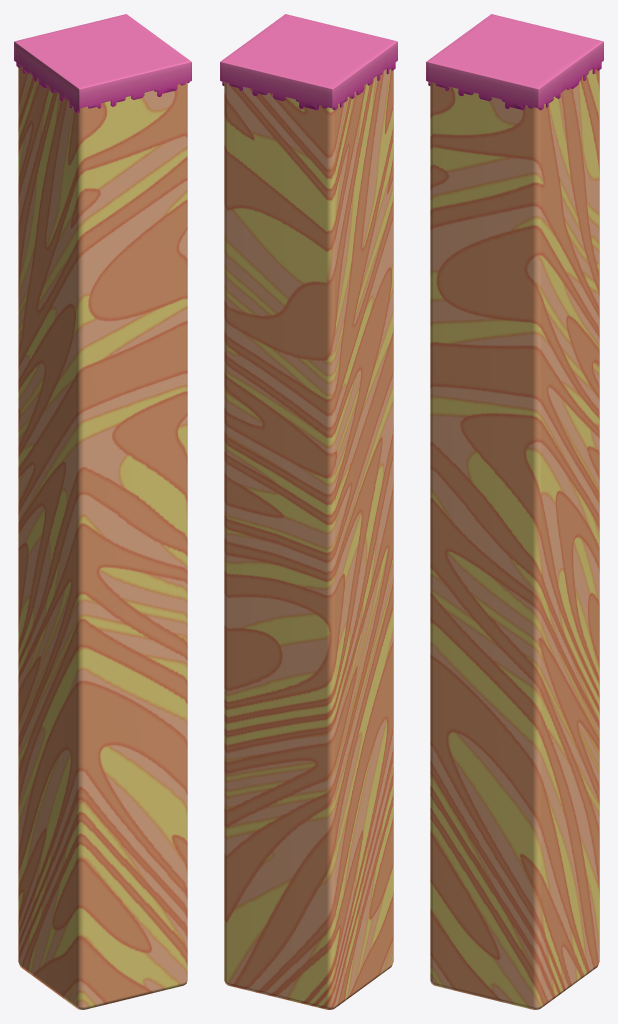
The model's file is ScaffoldLL_001.fbx.
The picture shows the model from 3 angles, left to right: view 1: azimuth 30°, elevation 25°; view 2: azimuth 150°, elevation 25°; view 3: azimuth 330°, elevation 25°; orthographic projection.
Parts seen in each view (by area): view 1: asibaLL1; view 2: asibaLL1; view 3: asibaLL1.
Part boxes in pixels (left/top/right/bottom): asibaLL1: left=14, top=14, right=191, bottom=1009; asibaLL1: left=220, top=14, right=397, bottom=1009; asibaLL1: left=426, top=14, right=603, bottom=1009.
Size of the model in its own units: 1.02 by 1.03 by 8.
Materials: 1 (1 with a texture image).
